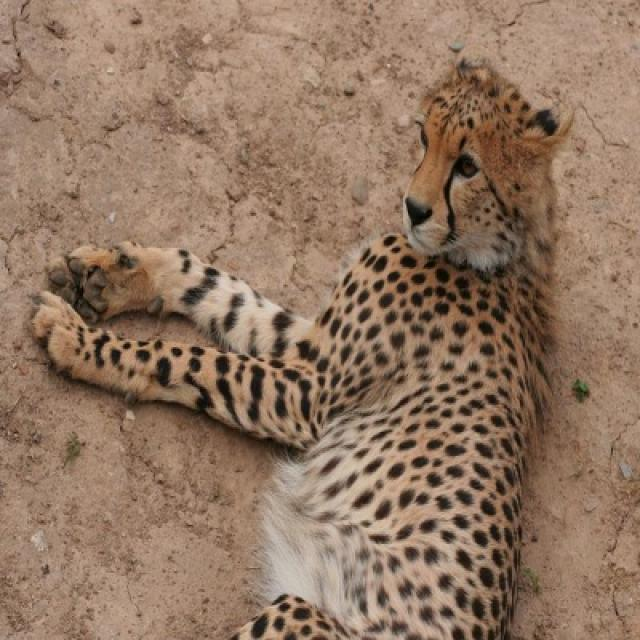Cheetah: (32, 59, 570, 638)
